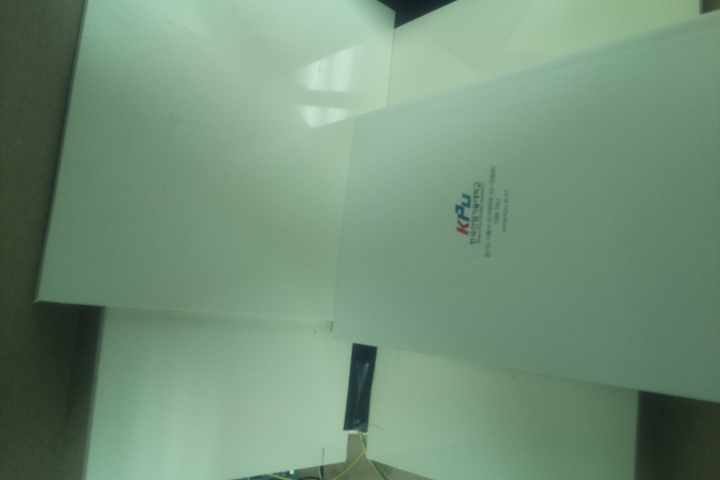book: (325, 8, 720, 409)
